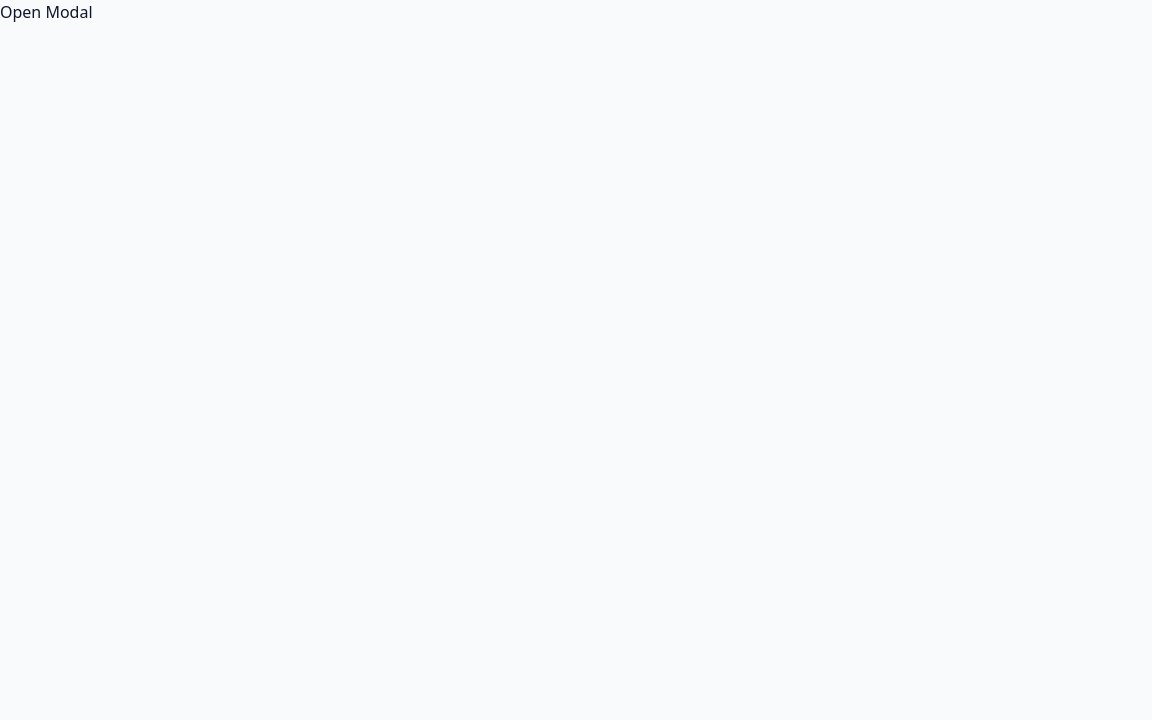
Dialog Primitive Component › renders trigger and opens dialog content on user click
Click the button "Open Modal".
click(46, 12)  # box [0,0,92,24]
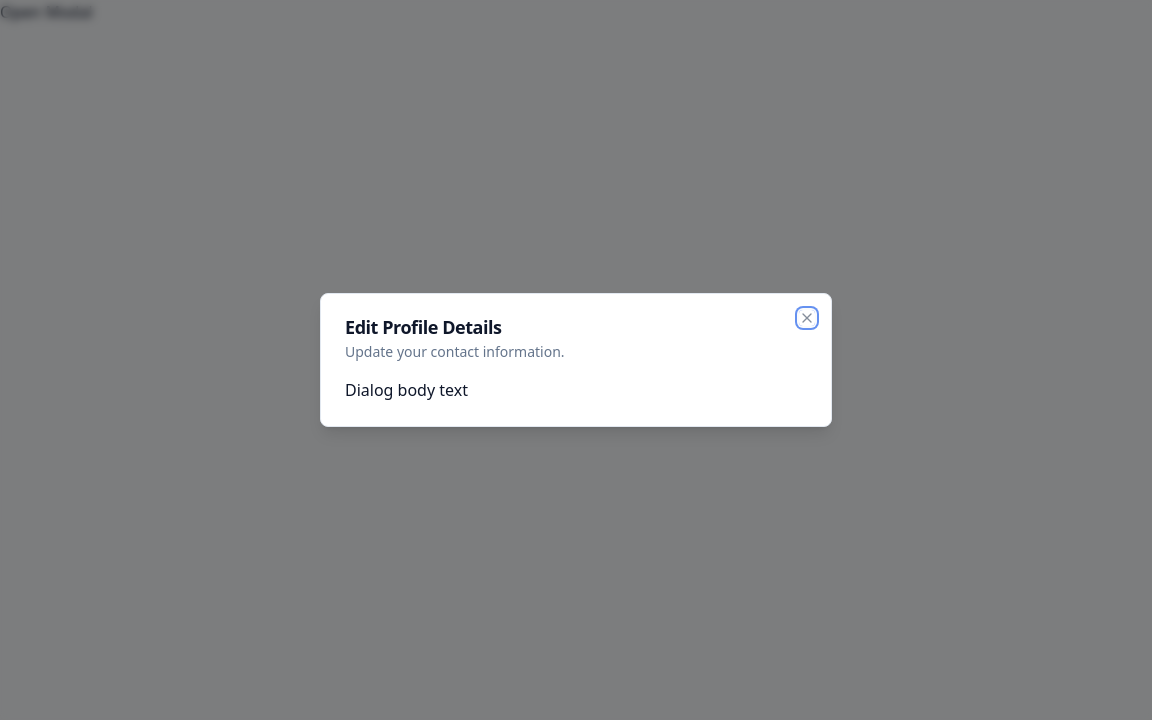
Result: the dialog is shown at [320,293,832,427]
Result: the heading "Edit Profile Details" is shown at [345,315,502,339]
Result: the text "Update your contact information." is shown at [345,342,565,361]
